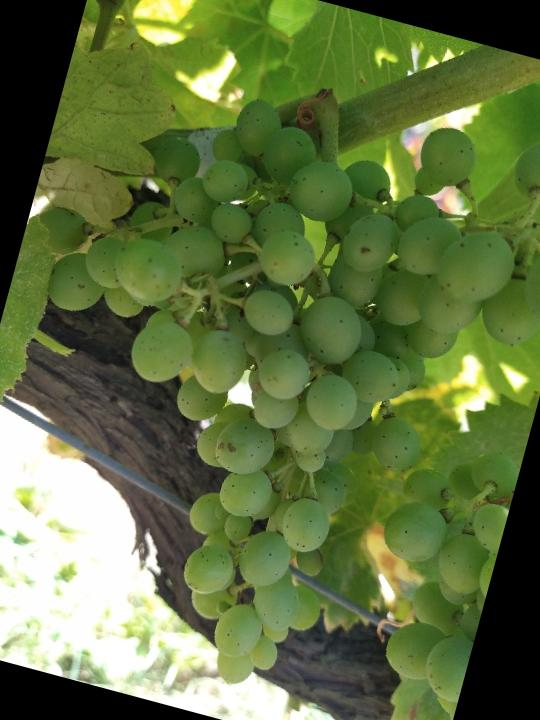grape: (0, 20, 540, 720)
